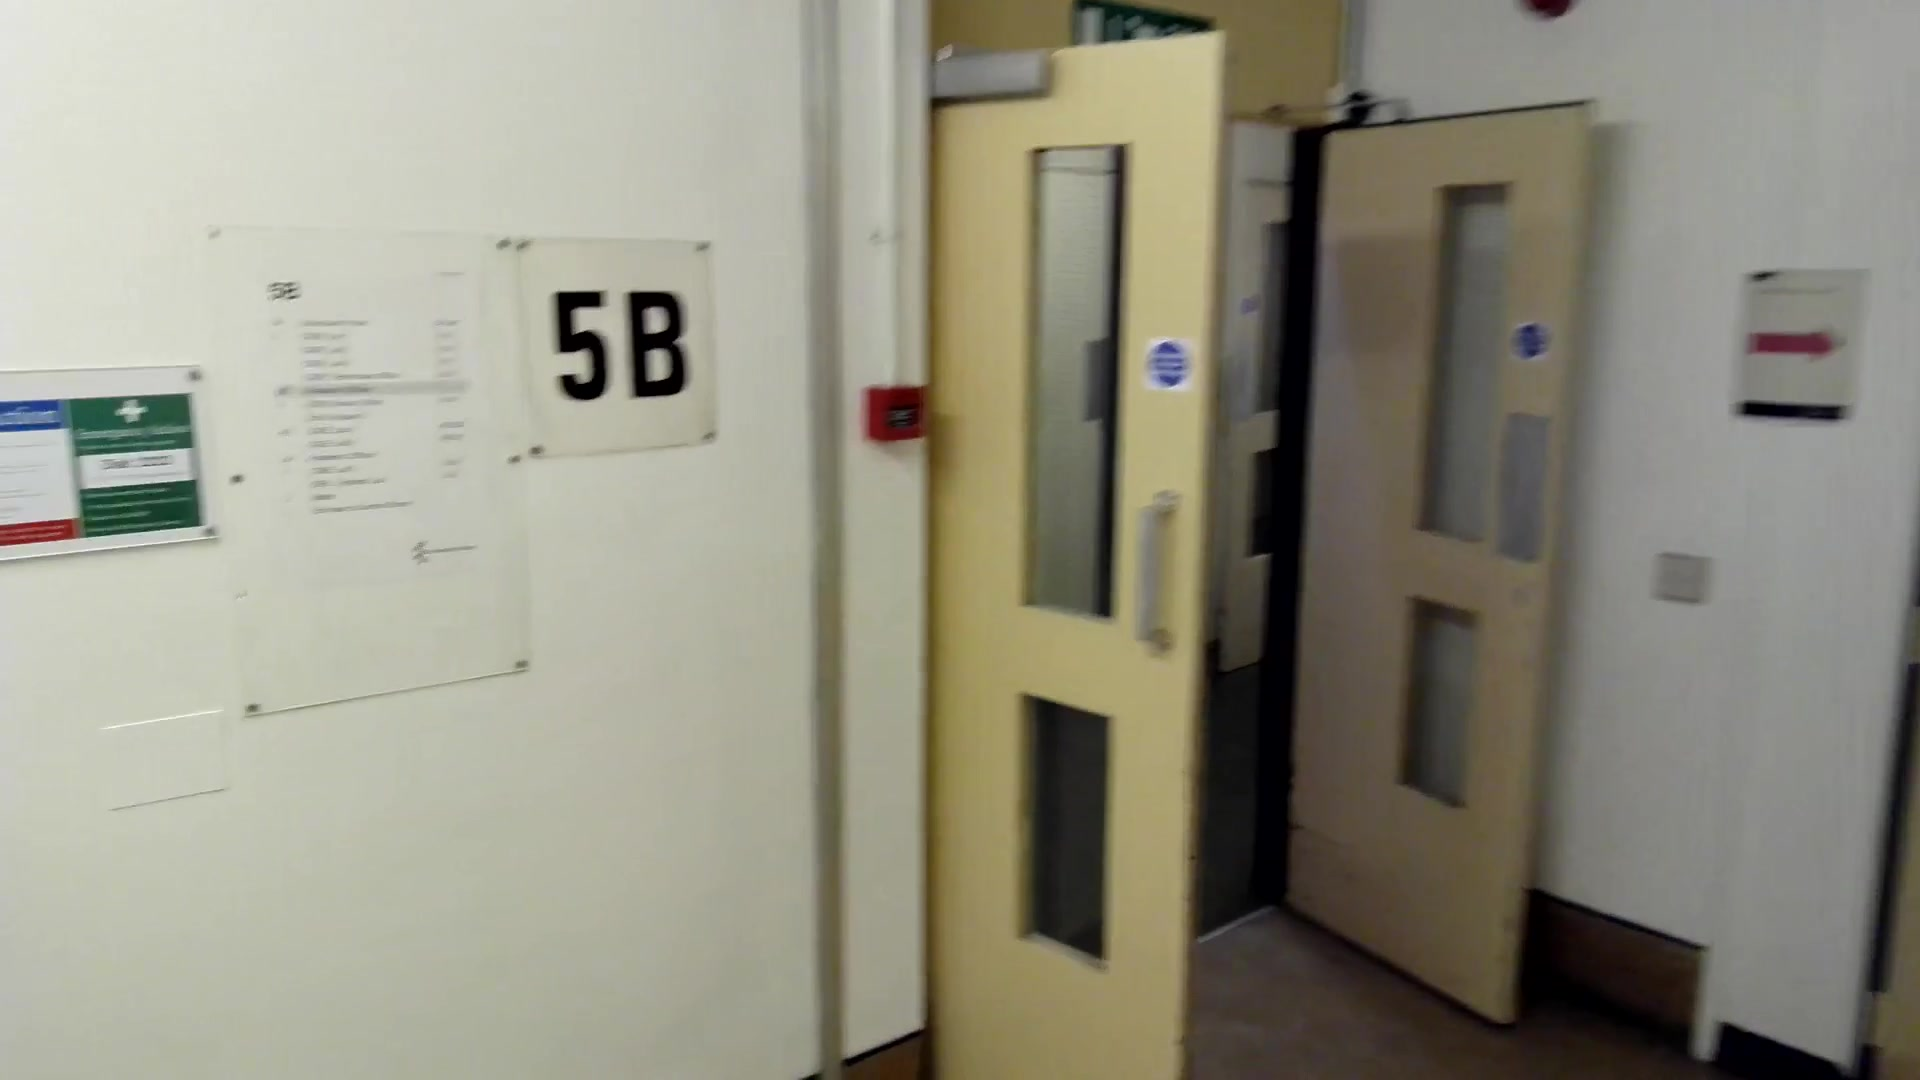Door: (920, 41, 1211, 1080)
